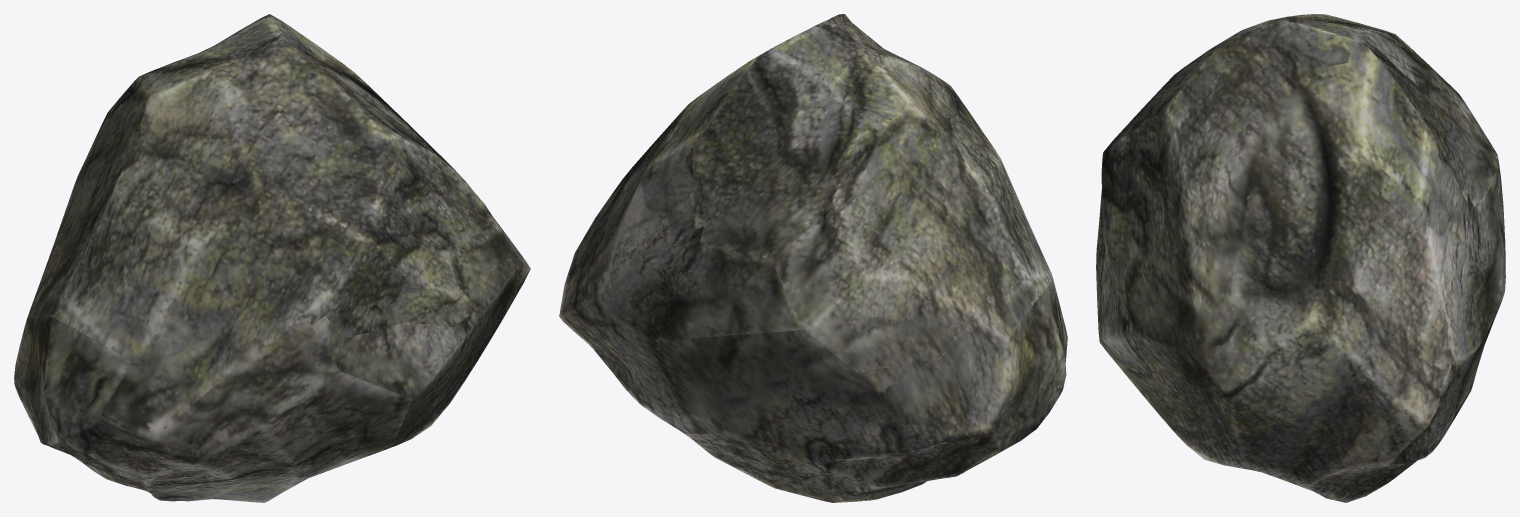
Rendered from rock2_LOD0.FBX.
3 renders of one model, left to right at view 1: azimuth 30°, elevation 25°; view 2: azimuth 150°, elevation 25°; view 3: azimuth 270°, elevation 25°, orthographic. The views are drawn at different scales.
Parts seen in each view (by area): view 1: rock2_LOD0; view 2: rock2_LOD0; view 3: rock2_LOD0.
Part boxes in pixels (box(x1,y1,x2,y2)): rock2_LOD0: box(14, 14, 530, 502); rock2_LOD0: box(559, 14, 1067, 502); rock2_LOD0: box(1096, 14, 1505, 502).
Size of the model in its own units: 177 by 170 by 135.
